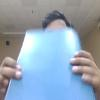notebook: (3, 27, 97, 99)
